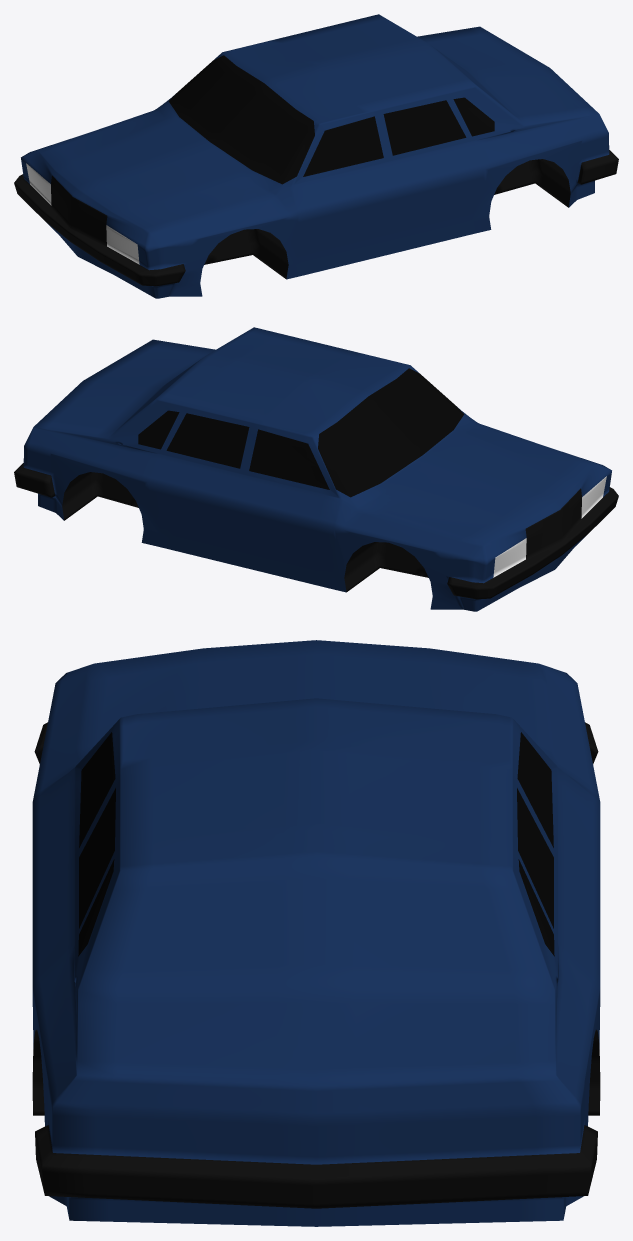
Rendered from Car-Viking-Body.FBX.
3 renders of one model, top to bottom at view 1: azimuth 30°, elevation 25°; view 2: azimuth 150°, elevation 25°; view 3: azimuth 270°, elevation 25°, orthographic. The views are drawn at different scales.
Visible parts, largest first — view 1: Car-Viking-Body, Car-Viking-Undercarriage; view 2: Car-Viking-Body, Car-Viking-Undercarriage; view 3: Car-Viking-Body, Car-Viking-Undercarriage.
Boxes of the visible parts, box(x1,y1,x2,y2) form: Car-Viking-Body: box(14, 14, 618, 298); Car-Viking-Undercarriage: box(204, 159, 570, 278); Car-Viking-Body: box(14, 327, 618, 611); Car-Viking-Undercarriage: box(62, 472, 428, 591); Car-Viking-Body: box(32, 640, 600, 1226); Car-Viking-Undercarriage: box(32, 1029, 600, 1115).
Size of the model in its own units: 565 by 149 by 280.
